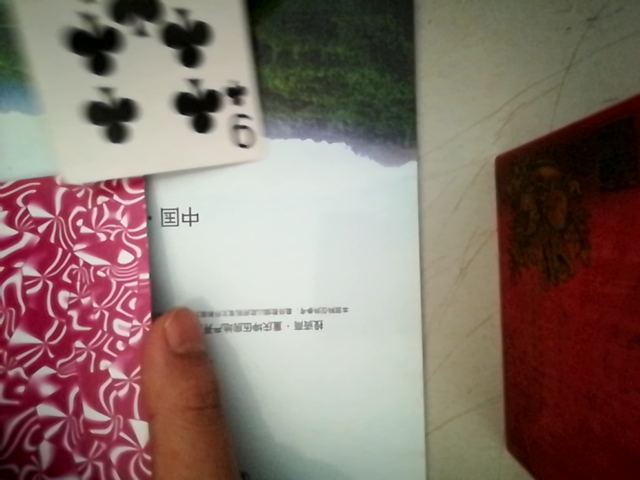mh 9: (14, 0, 266, 187)
